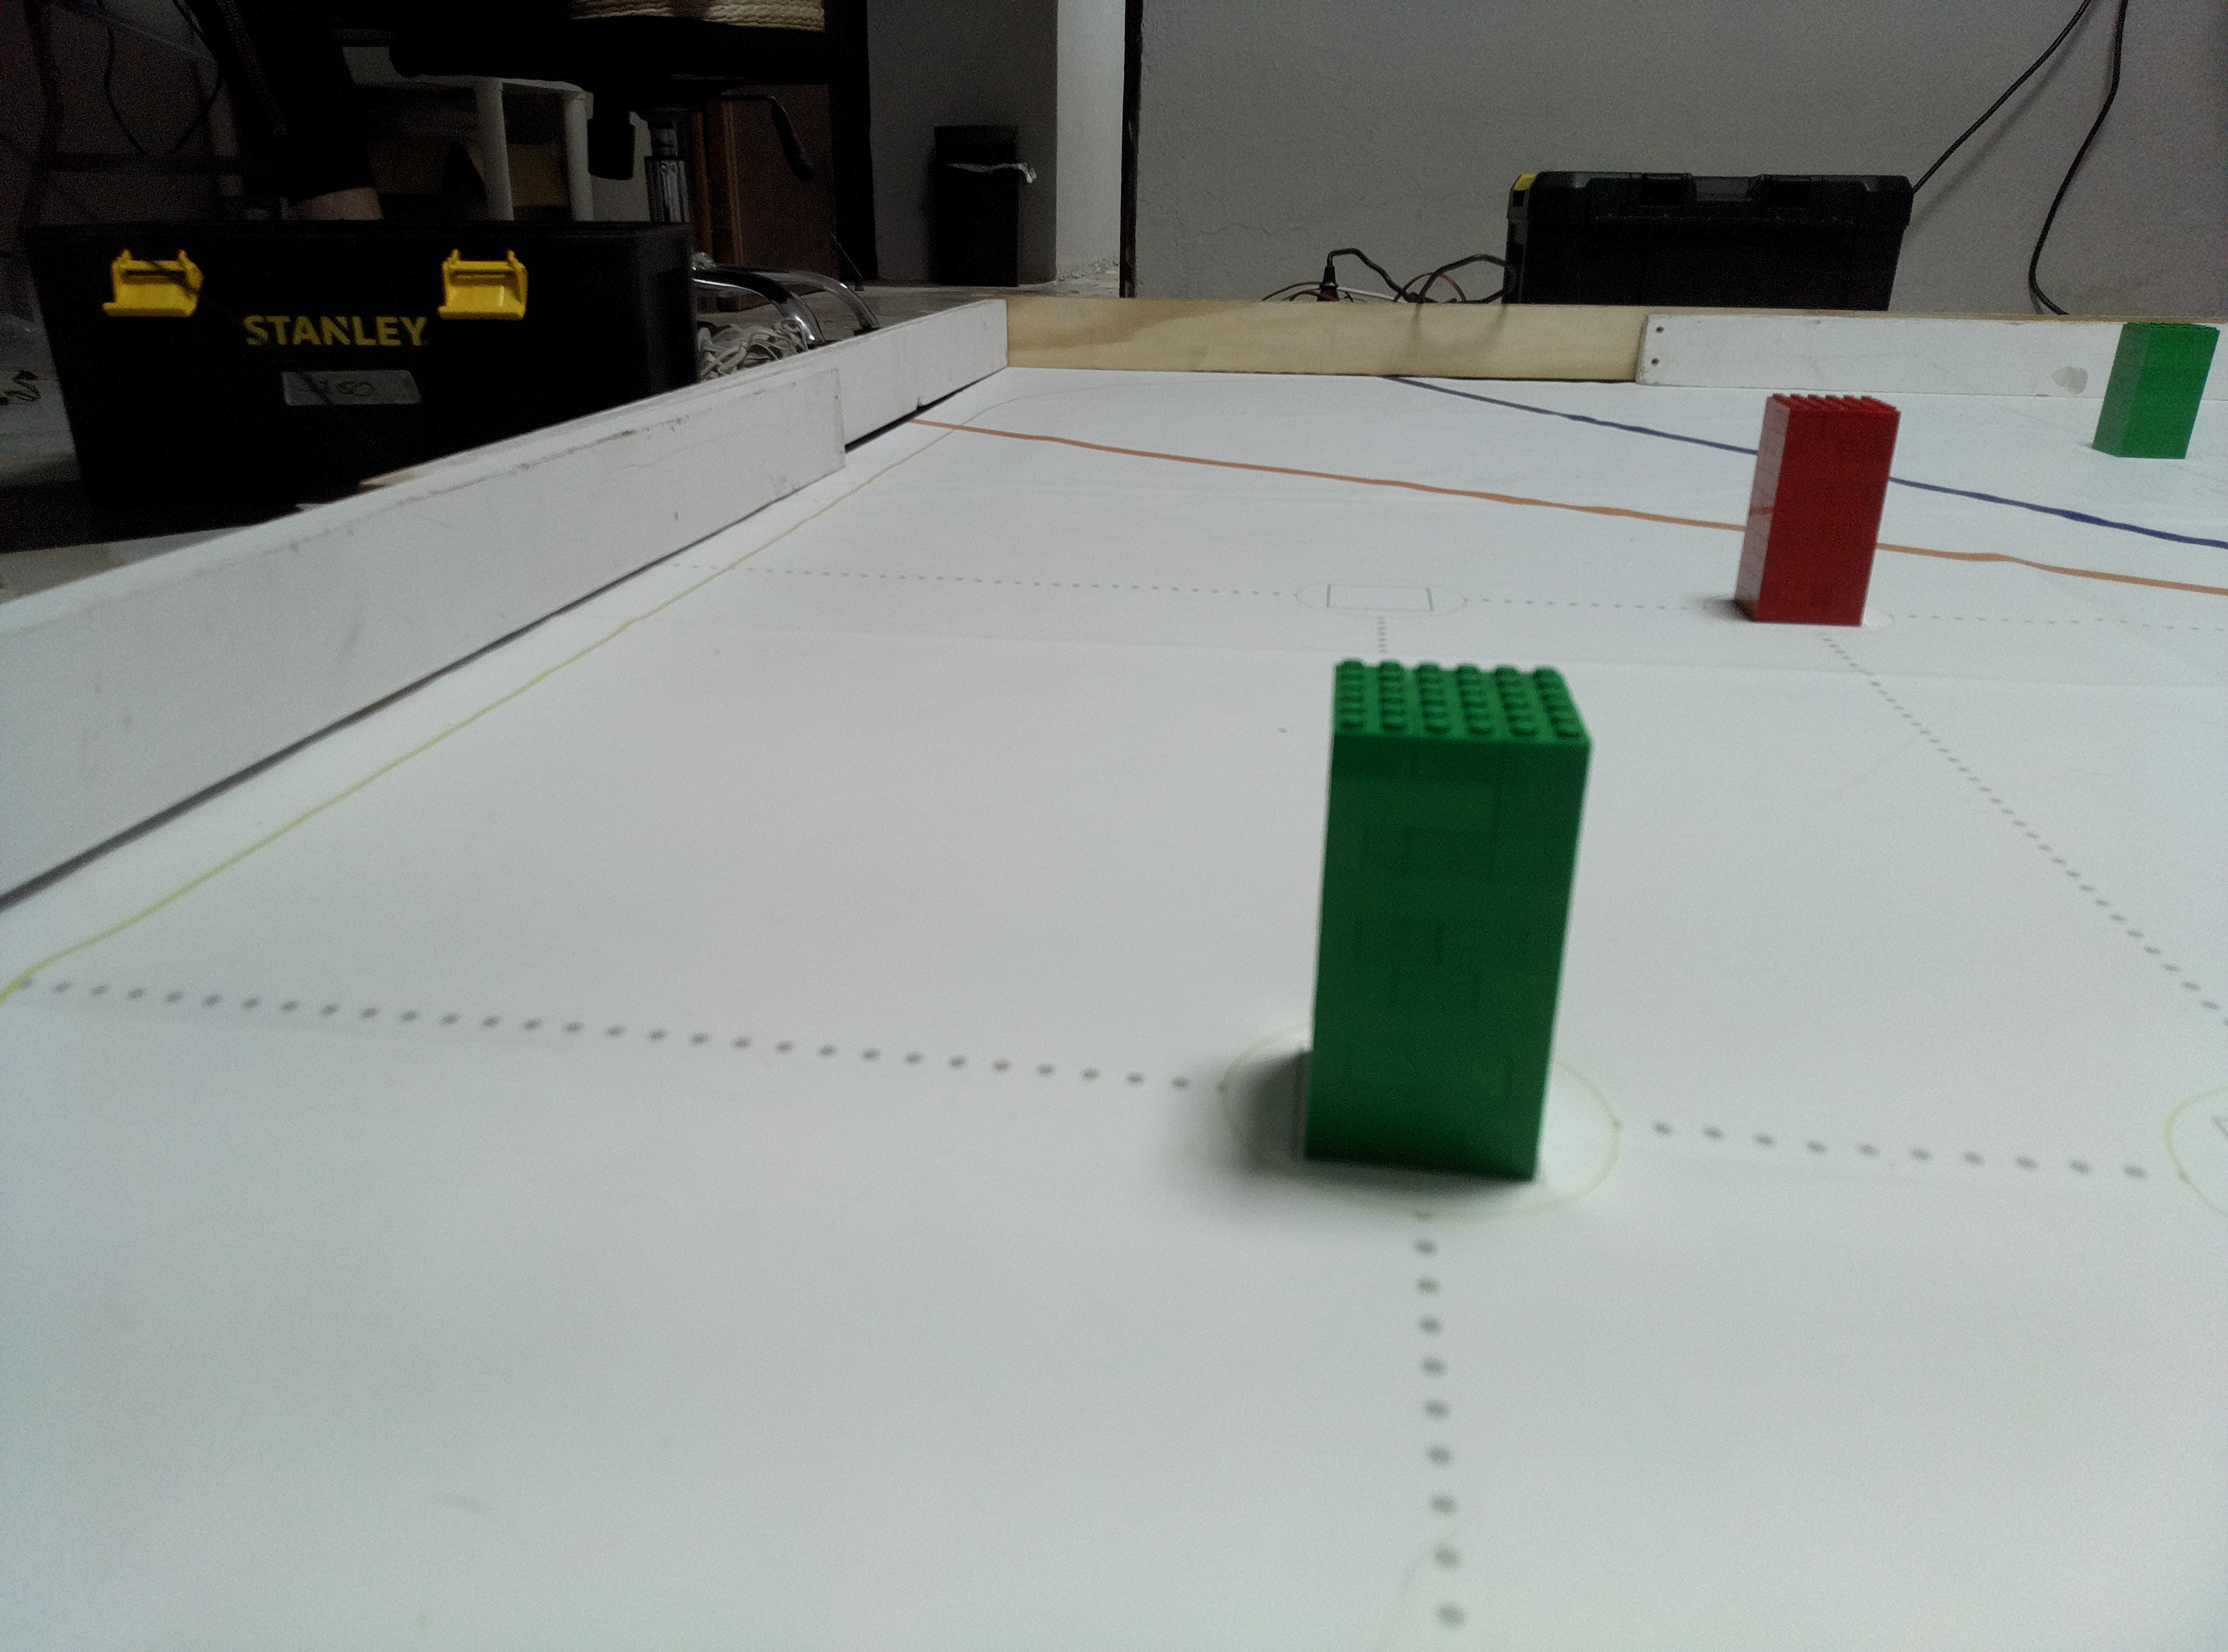greenbox: (1296, 654, 1598, 1189), (2089, 321, 2221, 460)
redbox: (1732, 392, 1910, 628)
